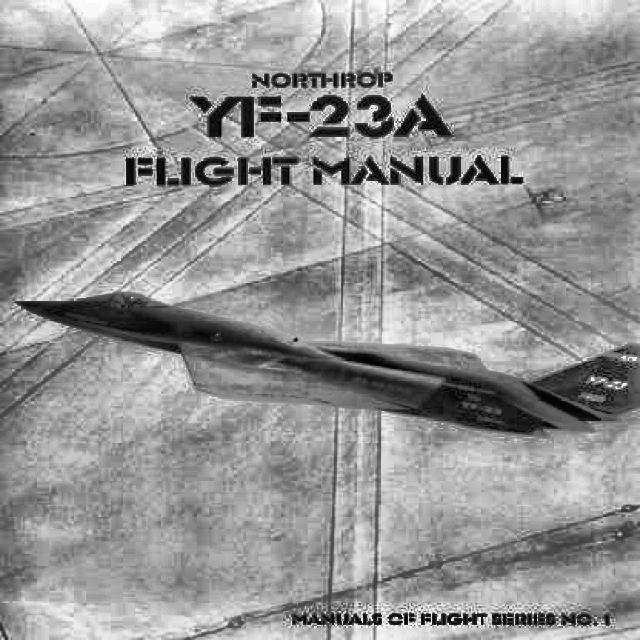YF23: (16, 292, 638, 438)
